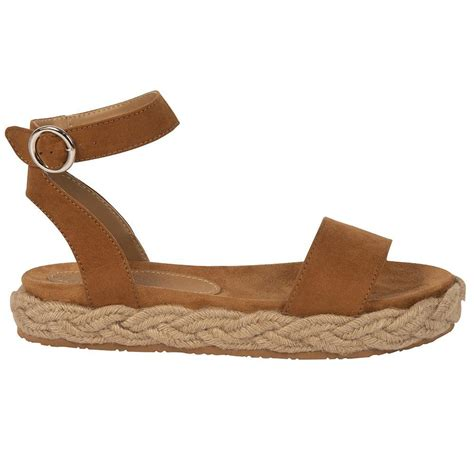gamuza: (8, 89, 458, 317)
